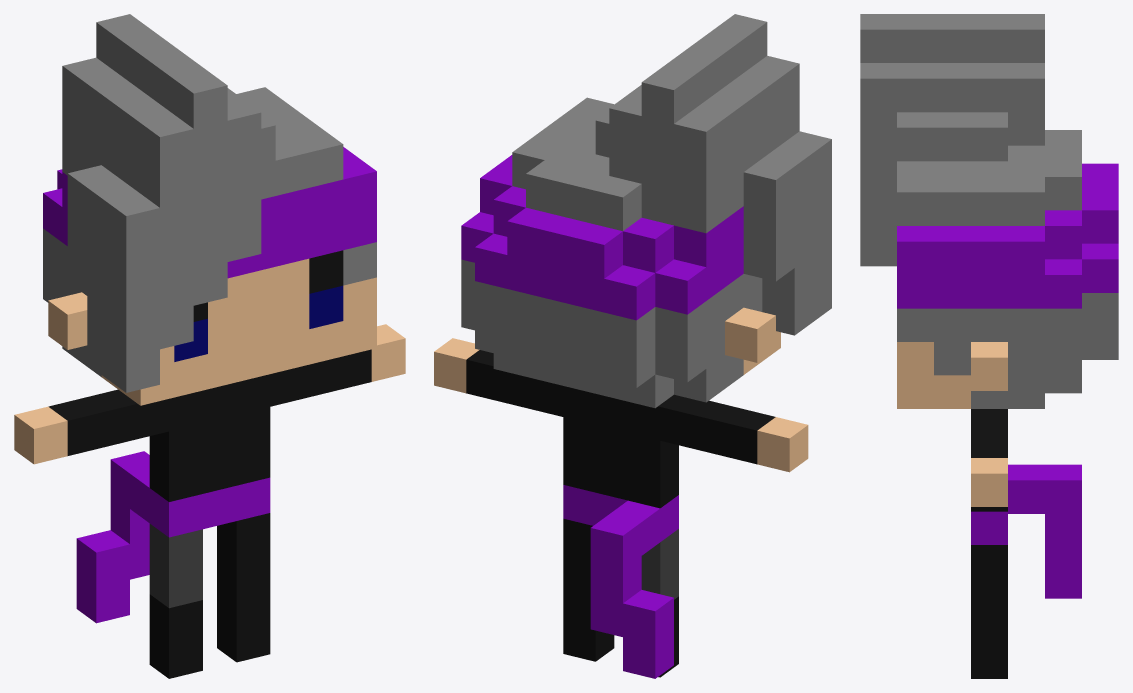
The model's file is Ninja.obj.
3 renders of one model, left to right at view 1: azimuth 30°, elevation 25°; view 2: azimuth 150°, elevation 25°; view 3: azimuth 270°, elevation 25°, orthographic. The views are drawn at different scales.
Bounding box in the file's own units: 1.1 × 1.8 × 0.7.
1 material, 1 textured.
